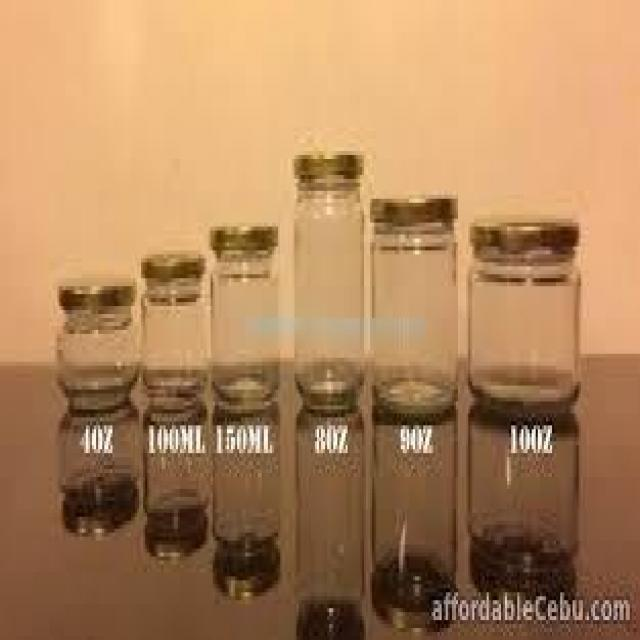glass: (464, 210, 587, 414), (292, 147, 368, 406)
